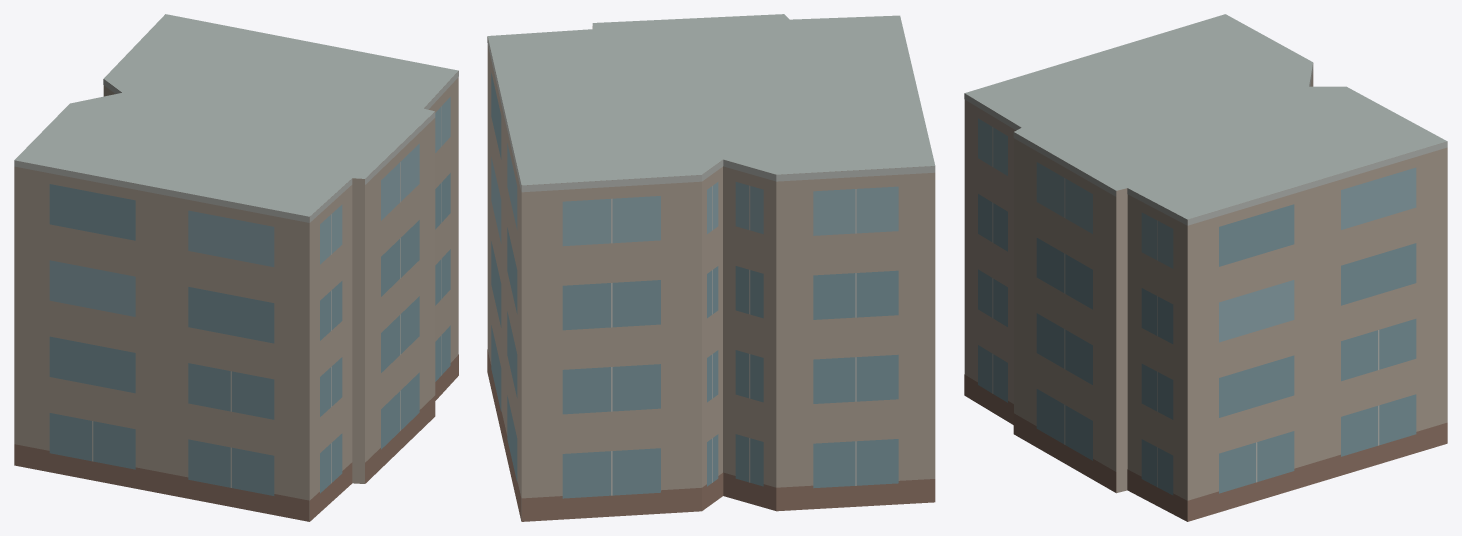
The model's file is survey-upis-32956969.glb.
3 renders of one model, left to right at view 1: azimuth 30°, elevation 25°; view 2: azimuth 150°, elevation 25°; view 3: azimuth 270°, elevation 25°, orthographic. The views are drawn at different scales.
Parts seen in each view (by area): view 1: survey-upis-32956969.tmp; view 2: survey-upis-32956969.tmp; view 3: survey-upis-32956969.tmp.
Part boxes in pixels (x1,y1,x2,y2): survey-upis-32956969.tmp: (14, 14, 458, 521); survey-upis-32956969.tmp: (487, 14, 935, 521); survey-upis-32956969.tmp: (964, 14, 1447, 521).
Bounding box in the file's own units: 17.44 × 11.95 × 17.31.
